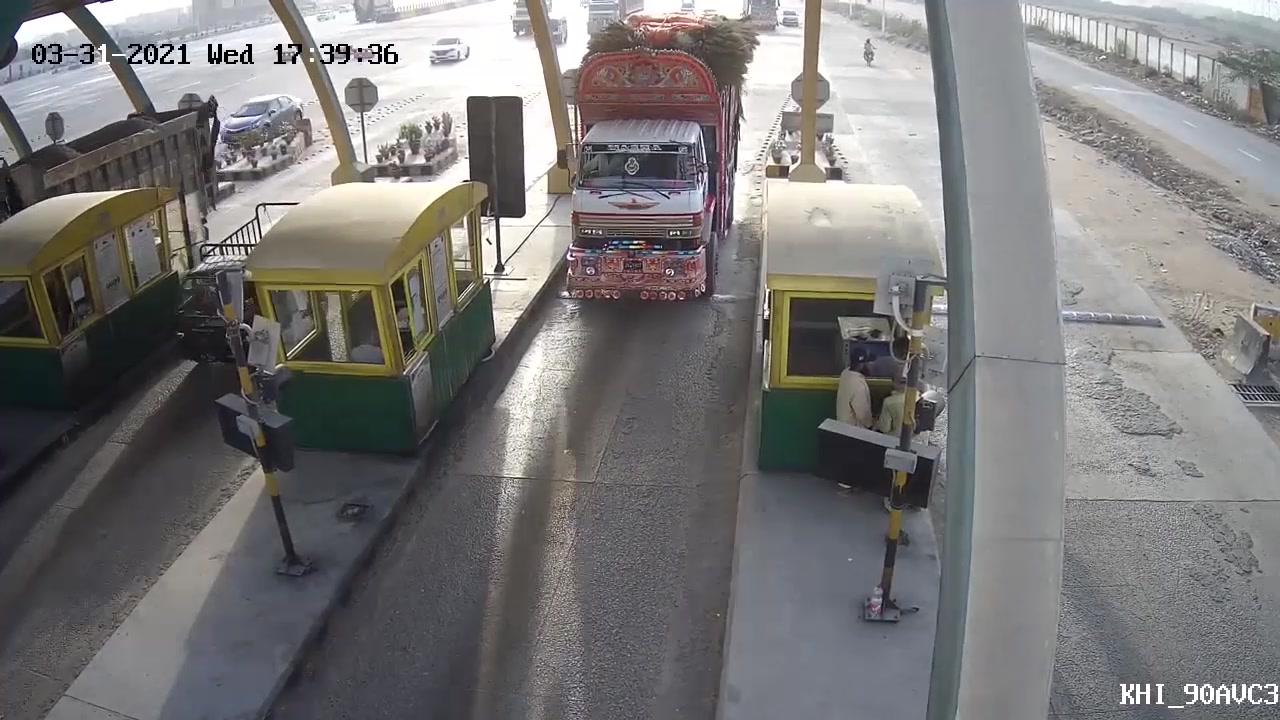F5: (556, 4, 762, 312)
